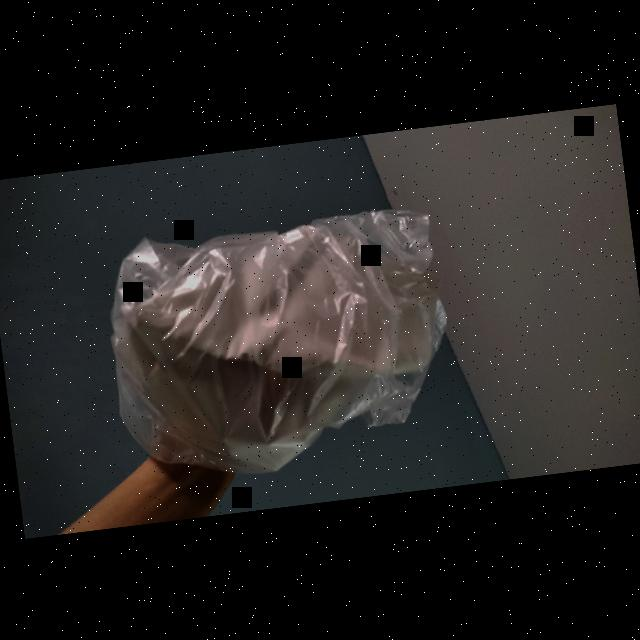plastic_bag: (94, 200, 465, 488)
